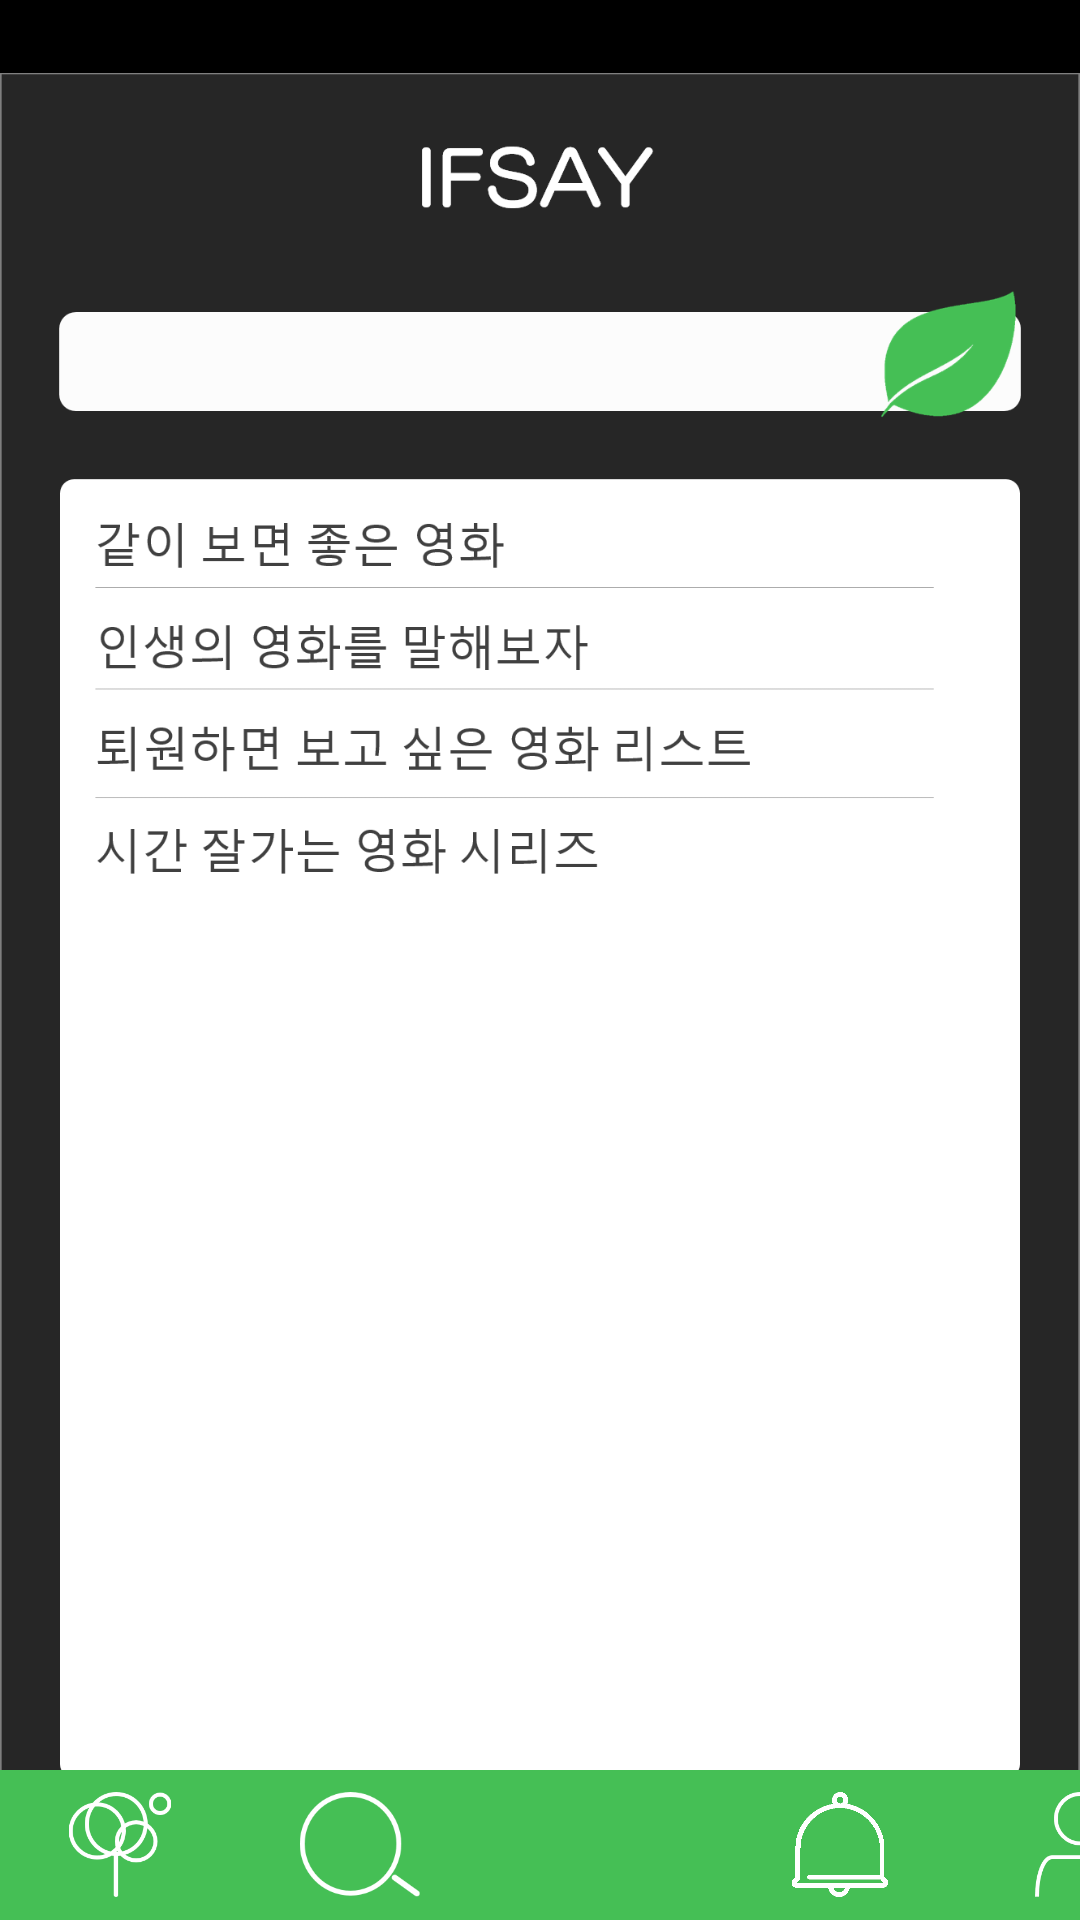

Where to tap for icons on this 1080×1920 app screen, as point (x, y):
alarm: point (840, 1844)
search: point (360, 1844)
tree: point (120, 1844)
